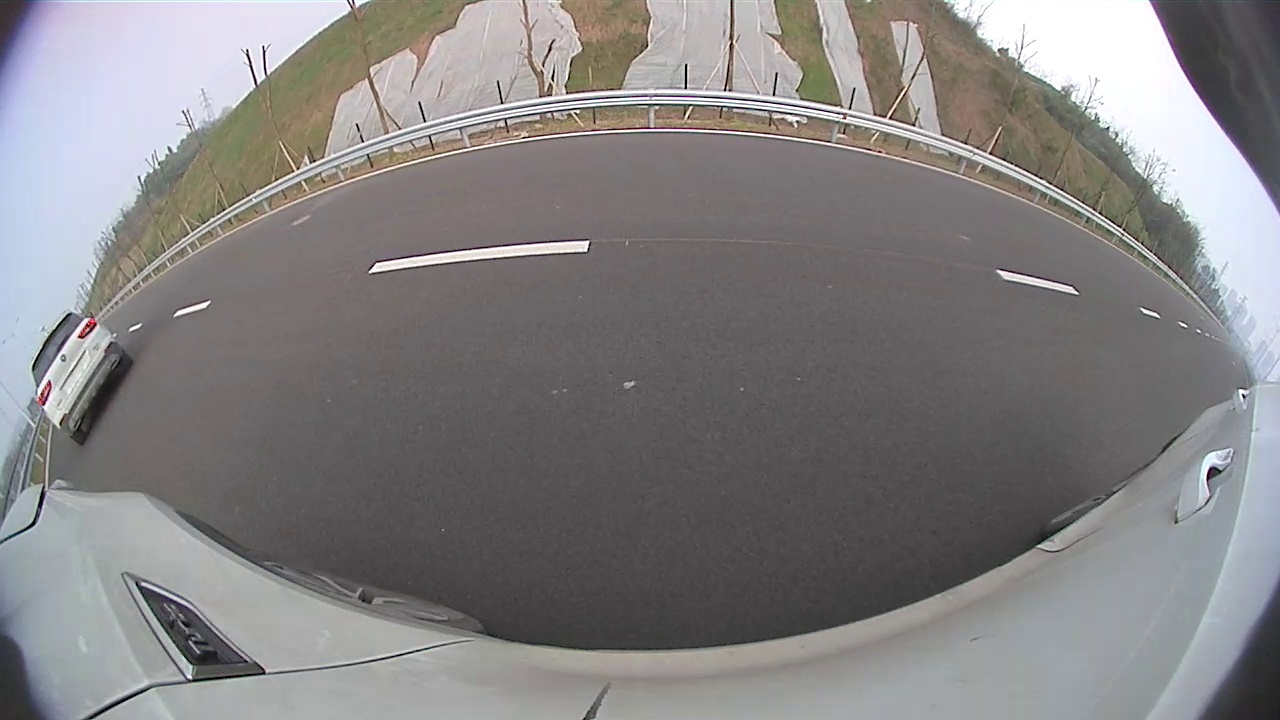car: (31, 312, 134, 445)
